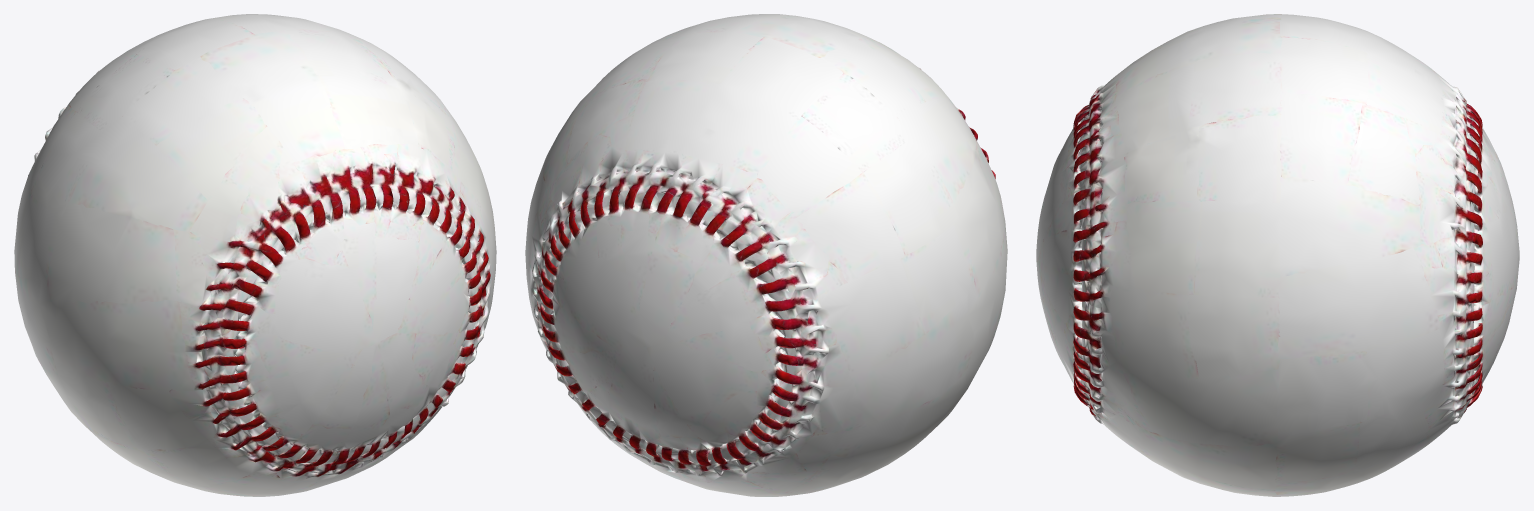
The picture shows the model from 3 angles, left to right: view 1: azimuth 30°, elevation 25°; view 2: azimuth 150°, elevation 25°; view 3: azimuth 270°, elevation 25°; orthographic projection.
Parts seen in each view (by area): view 1: Mesh_0; view 2: Mesh_0; view 3: Mesh_0.
Part boxes in pixels (bbox=[...]): Mesh_0: bbox=[14, 14, 496, 496]; Mesh_0: bbox=[525, 14, 1007, 496]; Mesh_0: bbox=[1036, 14, 1519, 496].
Size of the model in its own units: 1.9 by 1.9 by 1.9.
1 material, 1 textured.
